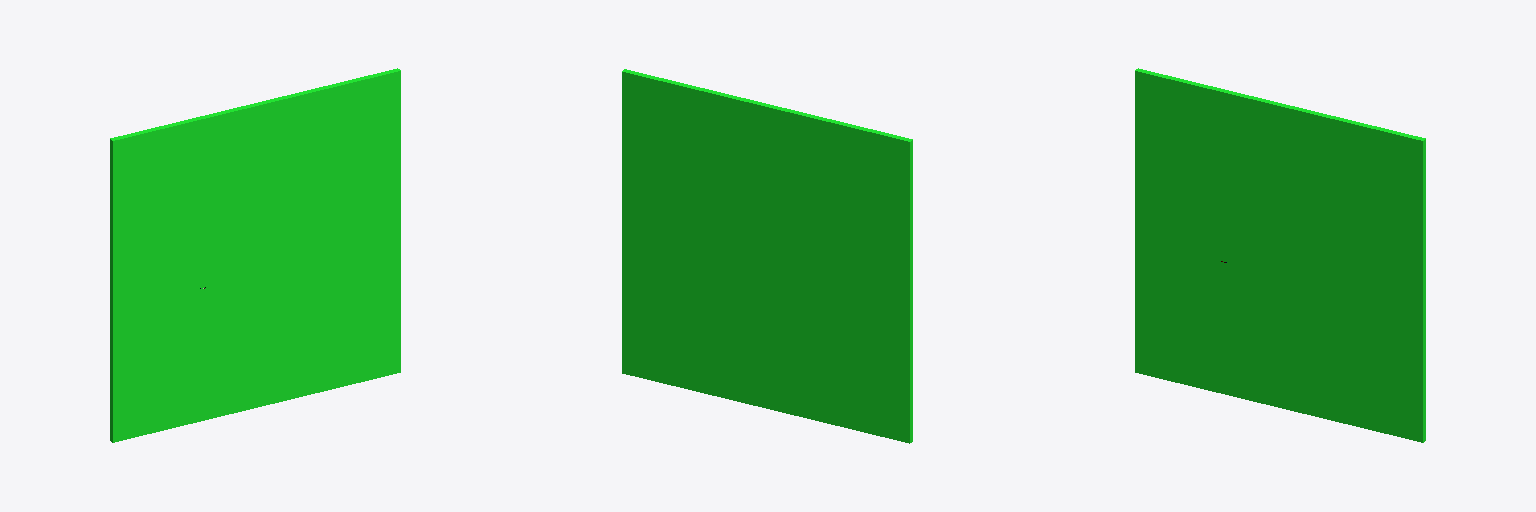
Rendered from TrackSide.obj.
The picture shows the model from 3 angles: view 1: azimuth 30°, elevation 25°; view 2: azimuth 150°, elevation 25°; view 3: azimuth 330°, elevation 25°; orthographic projection.
Visible parts, largest first — view 1: Green; view 2: Green; view 3: Green.
Part boxes in pixels (x1,y1,x2,y2): Green: (110,68,400,442); Green: (622,69,912,443); Green: (1135,68,1425,442).
Size of the model in its own units: 100 by 100 by 2.64.